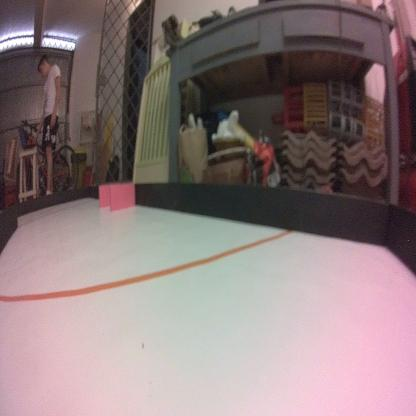magenta: (109, 183, 135, 209), (98, 181, 119, 207)
